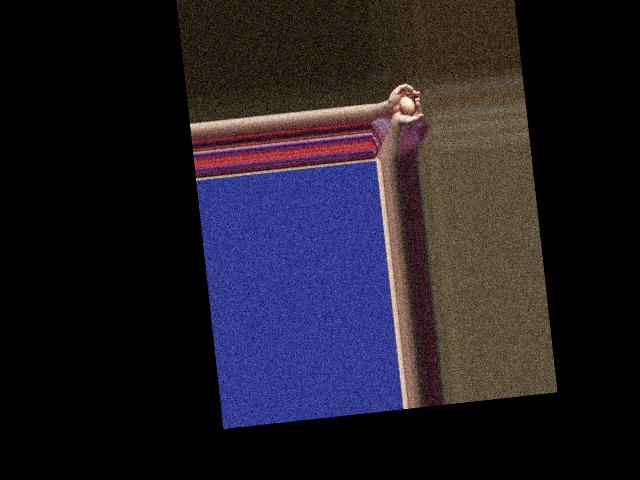egg: (399, 96, 416, 116)
